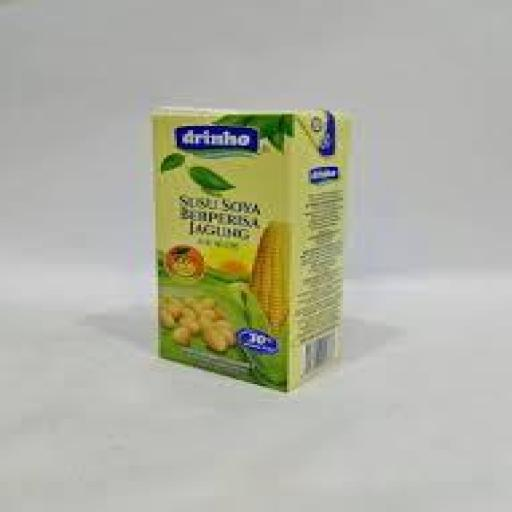drink carton: (156, 101, 344, 395)
